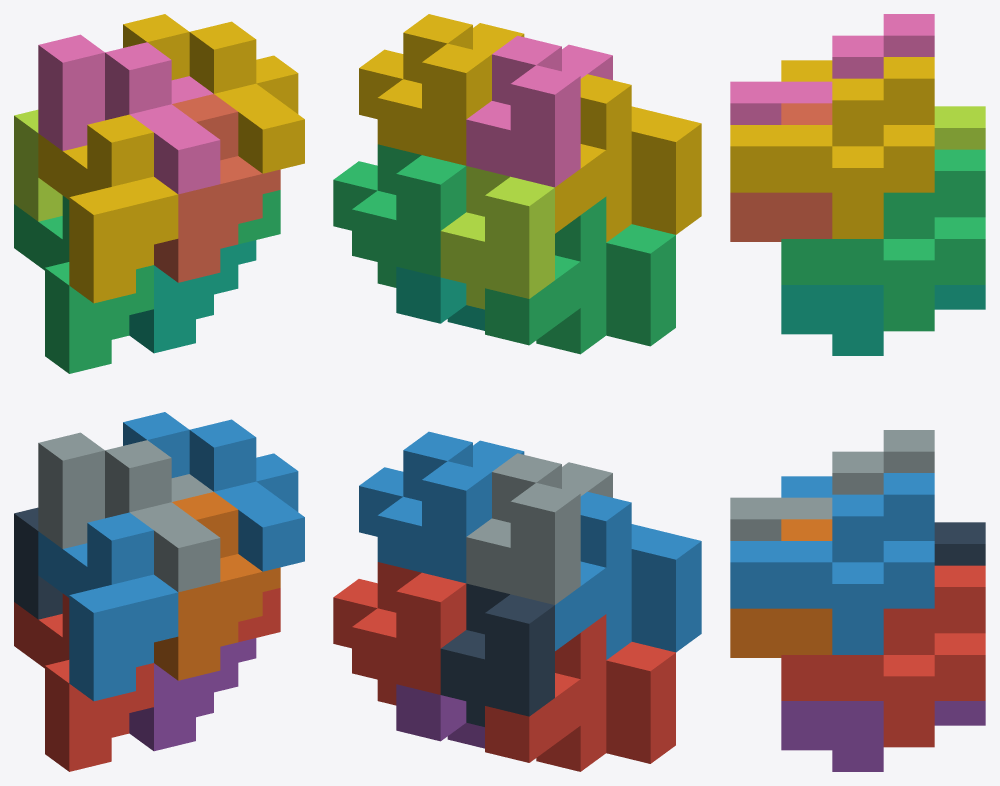
Rendered from tiling.obj.
The picture shows the model from 3 angles, left to right: view 1: azimuth 30°, elevation 25°; view 2: azimuth 150°, elevation 25°; view 3: azimuth 270°, elevation 25°; orthographic projection. The views are drawn at different scales.
Visible parts, largest first — view 1: copy_1_domain_2, copy_1_domain_4, copy_2_domain_2, copy_2_domain_4, copy_2_domain_6, copy_2_domain_8, copy_1_domain_6, copy_1_domain_8, copy_1_domain_1, copy_1_domain_3, copy_1_domain_5, copy_1_domain_7 (+4 smaller); view 2: copy_1_domain_1, copy_1_domain_3, copy_1_domain_4, copy_1_domain_2, copy_2_domain_6, copy_2_domain_8, copy_2_domain_4, copy_2_domain_2, copy_2_domain_5, copy_2_domain_7, copy_2_domain_1, copy_2_domain_3 (+2 smaller); view 3: copy_2_domain_6, copy_2_domain_8, copy_2_domain_5, copy_2_domain_7, copy_2_domain_2, copy_2_domain_4, copy_1_domain_5, copy_1_domain_7, copy_1_domain_6, copy_1_domain_8, copy_2_domain_1, copy_2_domain_3 (+2 smaller).
Part boxes in pixels (x1,y1,x2,y2): copy_1_domain_2: (38, 512, 178, 701); copy_1_domain_4: (38, 114, 178, 303); copy_2_domain_2: (38, 432, 220, 592); copy_2_domain_4: (38, 34, 220, 194); copy_2_domain_6: (123, 412, 304, 571); copy_2_domain_8: (123, 14, 304, 173); copy_1_domain_6: (154, 492, 280, 680); copy_1_domain_8: (154, 94, 280, 282); copy_1_domain_1: (14, 593, 153, 771); copy_1_domain_3: (14, 195, 153, 373); copy_1_domain_5: (129, 638, 256, 751); copy_1_domain_7: (129, 240, 256, 353); copy_1_domain_1: (485, 614, 675, 771); copy_1_domain_3: (485, 196, 675, 354); copy_1_domain_4: (555, 74, 701, 242); copy_1_domain_2: (555, 491, 701, 659); copy_2_domain_6: (359, 431, 524, 583); copy_2_domain_8: (359, 14, 524, 165); copy_2_domain_4: (466, 35, 612, 187); copy_2_domain_2: (466, 453, 612, 604); copy_2_domain_5: (333, 562, 466, 705); copy_2_domain_7: (333, 144, 466, 287); copy_2_domain_1: (440, 583, 554, 726); copy_2_domain_3: (440, 166, 554, 309); copy_2_domain_6: (730, 473, 934, 654); copy_2_domain_8: (730, 57, 934, 238); copy_2_domain_5: (781, 565, 985, 747); copy_2_domain_7: (781, 149, 985, 331); copy_2_domain_2: (730, 430, 934, 540); copy_2_domain_4: (730, 14, 934, 124); copy_1_domain_5: (781, 701, 985, 771); copy_1_domain_7: (781, 285, 985, 355); copy_1_domain_6: (730, 519, 832, 657); copy_1_domain_8: (730, 103, 832, 241); copy_2_domain_1: (934, 522, 985, 565); copy_2_domain_3: (934, 106, 985, 149).
Size of the model in its own units: 6 by 15 by 5.
